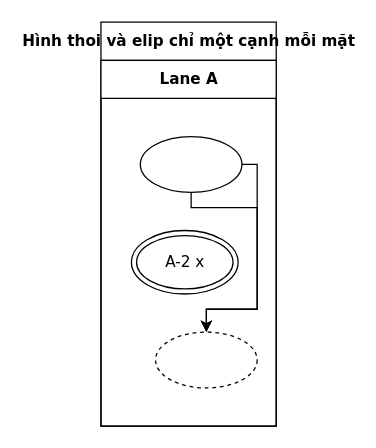
Image size: 376x448. Some labels were removed from this diagram. The centre of each missing label's shape, as x and y in pixels:
"A-1 x" belongs at (190,163).
"A-3 x" belongs at (205,359).
